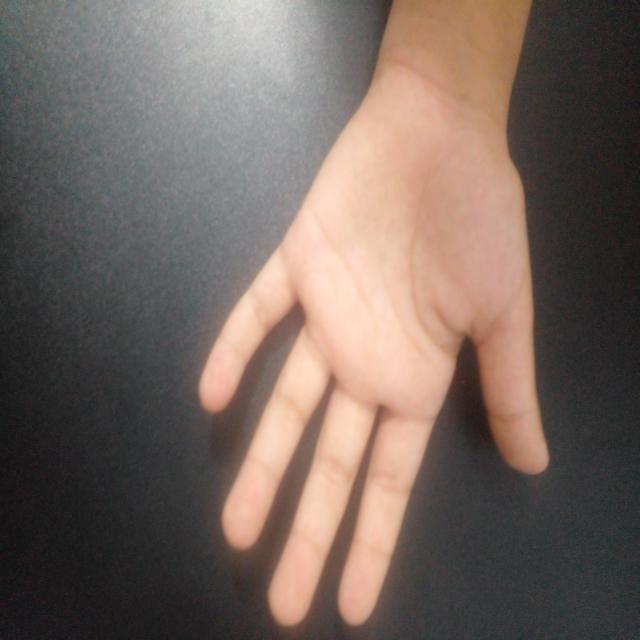Open Hand: (196, 82, 552, 630)
